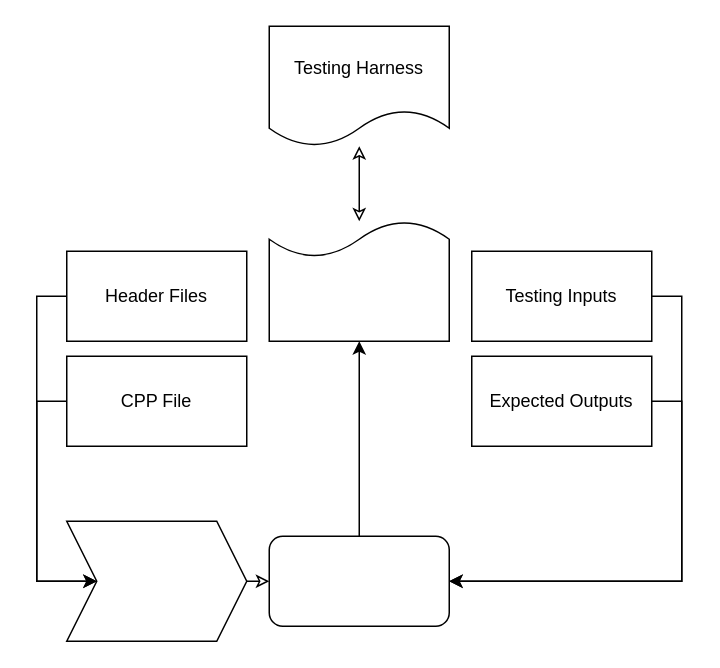
Some shapes in this 720 by 668 pixel diagram are drawn without their labels. Here are the shapes that lost their labels. From the top down, the centre of each, then its label:
point (358, 280): Unit Test
point (156, 580): Compilation
point (358, 580): Testing Binary
